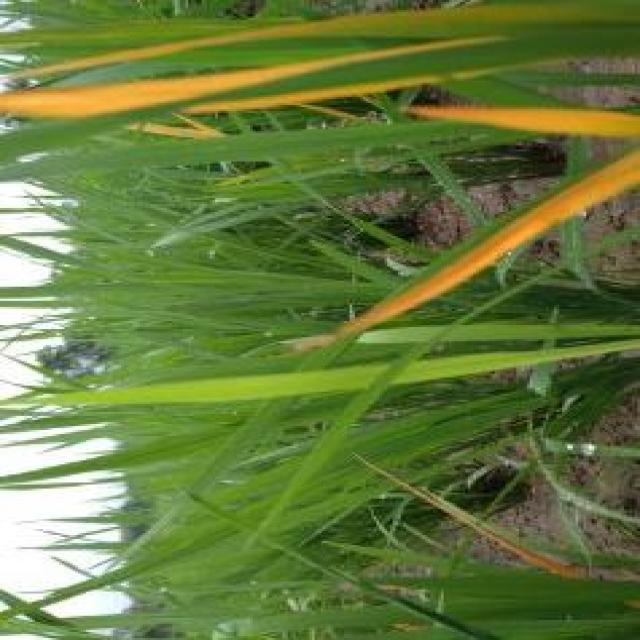Tungro: (2, 8, 634, 140), (315, 143, 640, 332)
